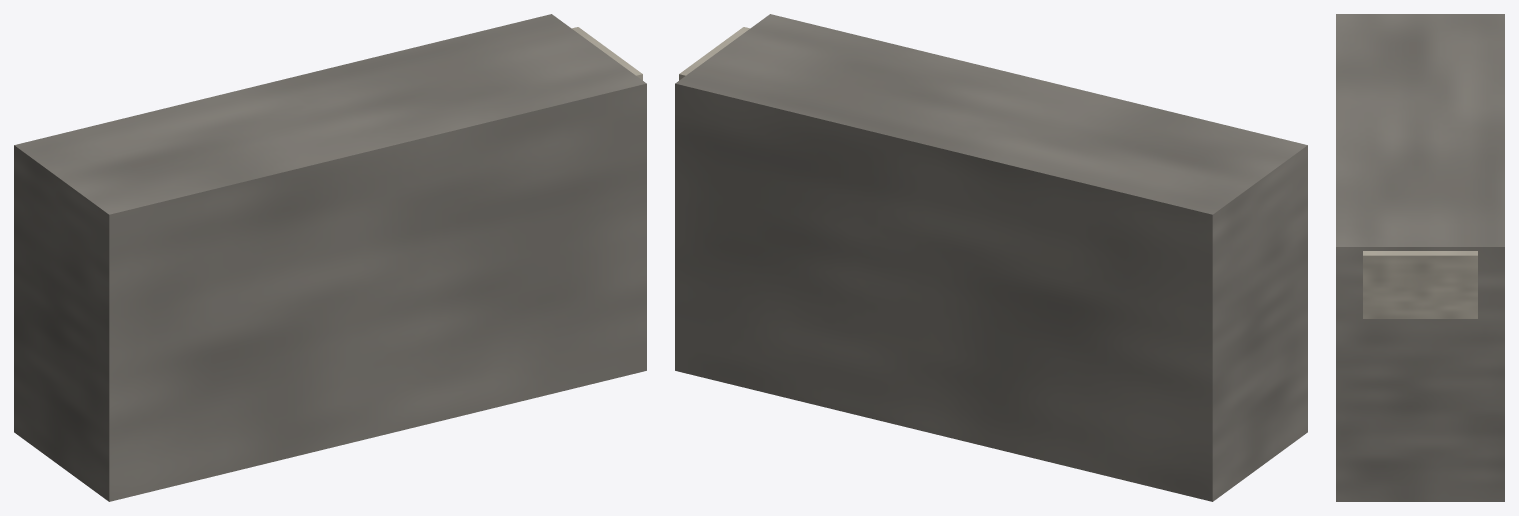
Rendered from barrier_concrete.fbx.
The picture shows the model from 3 angles, left to right: view 1: azimuth 30°, elevation 25°; view 2: azimuth 150°, elevation 25°; view 3: azimuth 270°, elevation 25°; orthographic projection. The views are drawn at different scales.
Parts seen in each view (by area): view 1: barrier_concrete; view 2: barrier_concrete; view 3: barrier_concrete.
Boxes of the visible parts, x1,y1,x2,y2 form: barrier_concrete: (14, 14, 646, 501); barrier_concrete: (675, 14, 1307, 501); barrier_concrete: (1336, 14, 1504, 501).
Size of the model in its own units: 200 by 100 by 60.
Materials: 1 (1 with a texture image).
